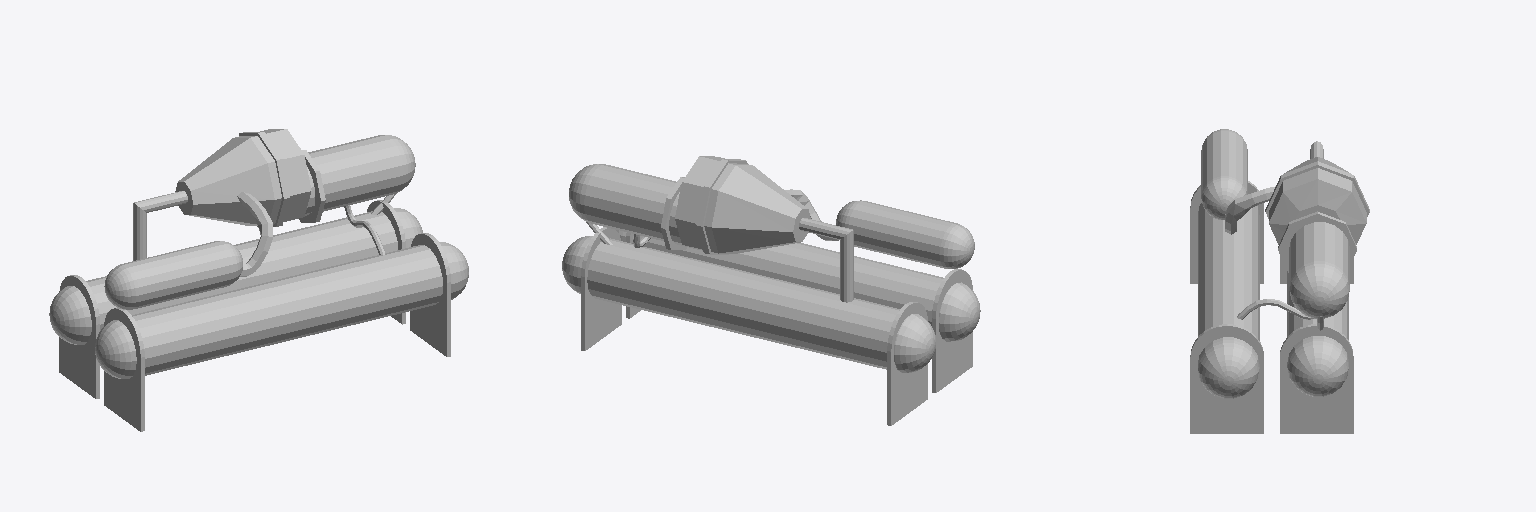
The model's file is 冷水主机.obj.
The picture shows the model from 3 angles: view 1: azimuth 30°, elevation 25°; view 2: azimuth 150°, elevation 25°; view 3: azimuth 270°, elevation 25°; orthographic projection.
Visible parts, largest first — view 1: Capsule002, Capsule003, Cylinder006, Capsule004, Capsule005, Rectangle003, Rectangle005, Rectangle004, Line002, Line005, Cylinder007, Cylinder008 (+1 smaller); view 2: Capsule003, Capsule002, Cylinder006, Capsule005, Capsule004, Rectangle005, Rectangle003, Rectangle006, Line002, Cylinder007, Cylinder008; view 3: Capsule002, Capsule005, Rectangle004, Rectangle006, Cylinder006, Capsule003, Capsule004, Rectangle003, Cylinder008, Line005, Cylinder007.
Boxes of the visible parts, x1,y1,x2,y2 form: Capsule002: [95, 242, 468, 378]; Capsule003: [49, 208, 422, 344]; Cylinder006: [175, 129, 311, 225]; Capsule004: [104, 241, 242, 309]; Capsule005: [305, 135, 415, 215]; Rectangle003: [104, 308, 144, 431]; Rectangle005: [59, 275, 99, 398]; Rectangle004: [410, 233, 450, 356]; Line002: [133, 191, 187, 260]; Line005: [237, 192, 272, 276]; Cylinder007: [239, 131, 289, 226]; Cylinder008: [299, 150, 325, 222]; Capsule003: [562, 236, 935, 372]; Capsule002: [616, 230, 980, 341]; Cylinder006: [675, 156, 810, 253]; Capsule005: [569, 164, 702, 250]; Capsule004: [836, 200, 974, 268]; Rectangle005: [887, 302, 927, 425]; Rectangle003: [932, 269, 972, 392]; Rectangle006: [581, 227, 621, 350]; Line002: [799, 218, 853, 302]; Cylinder007: [696, 159, 747, 254]; Cylinder008: [661, 177, 686, 249]; Capsule002: [1198, 203, 1259, 398]; Capsule005: [1289, 222, 1349, 318]; Rectangle004: [1190, 324, 1263, 433]; Rectangle006: [1280, 324, 1353, 433]; Cylinder006: [1269, 157, 1366, 244]; Capsule003: [1287, 271, 1348, 396]; Capsule004: [1201, 129, 1247, 219]; Rectangle003: [1190, 181, 1263, 283]; Cylinder008: [1278, 211, 1356, 272]; Line005: [1225, 186, 1275, 234]; Cylinder007: [1265, 162, 1369, 218].
Bounding box in the file's own units: 63.11 × 34.27 × 26.75.